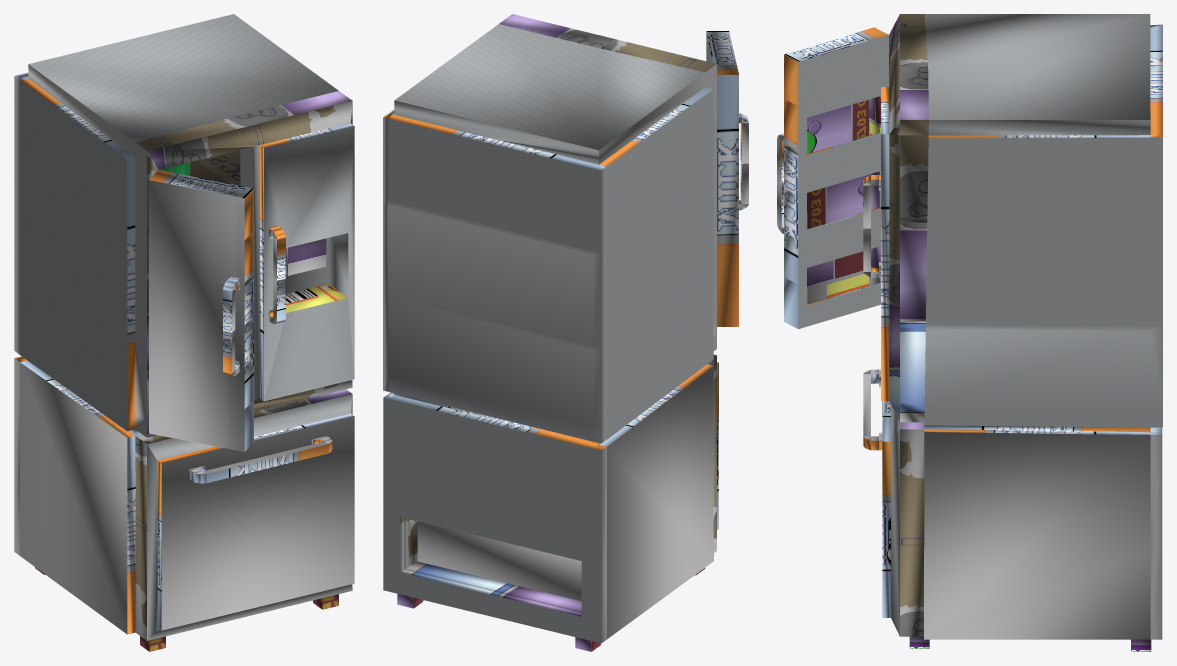
Rendered from Survival Horror Fridge.fbx.
3 renders of one model, left to right at view 1: azimuth 30°, elevation 25°; view 2: azimuth 150°, elevation 25°; view 3: azimuth 270°, elevation 25°, orthographic. The views are drawn at different scales.
Parts seen in each view (by area): view 1: Cube; view 2: Cube; view 3: Cube.
Part boxes in pixels (x1,y1,x2,y2): Cube: (14,14,354,651); Cube: (383,14,748,651); Cube: (777,14,1162,651).
Bounding box in the file's own units: 215 × 470 × 308.
